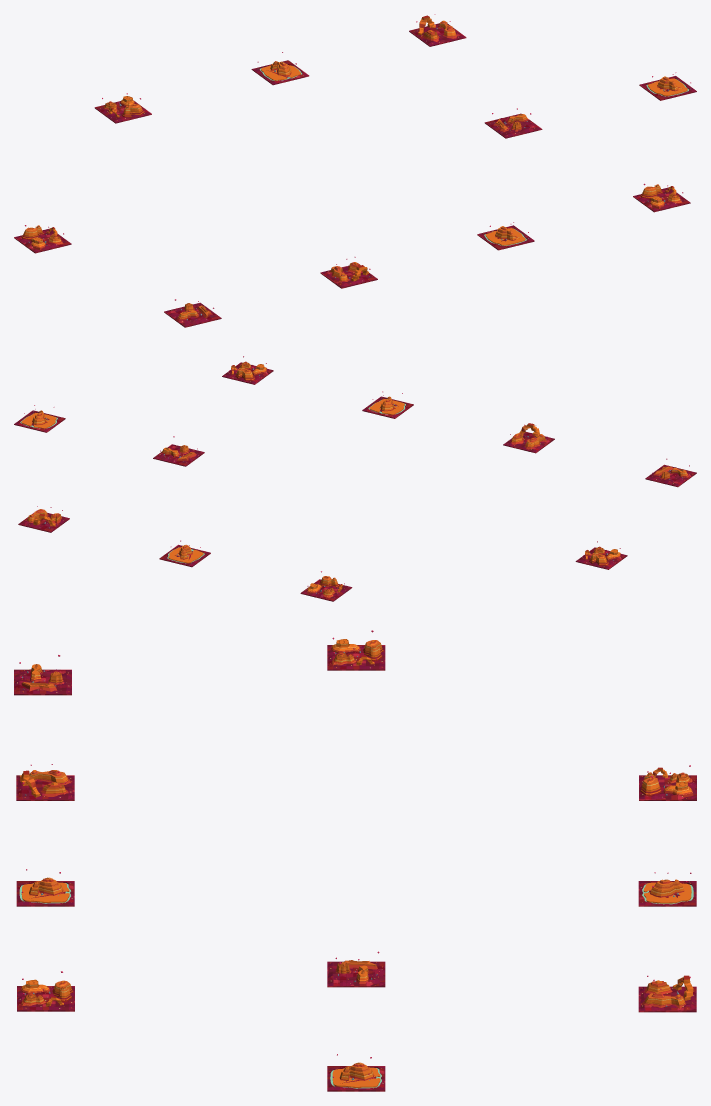
The model's file is Wildcard_Part4_D7.fbx.
3 views of the same model, one above another, from view 1: azimuth 30°, elevation 25°; view 2: azimuth 150°, elevation 25°; view 3: azimuth 270°, elevation 25° (orthographic). The views are drawn at different scales.
Parts seen in each view (by area): view 1: Cube.277, Cube.276, Cube.298, Cube.274, Cube.284, Cube.273, Cube.289, Cube.278, Cube.275, Cube.150; view 2: Cube.274, Cube.284, Cube.276, Cube.298, Cube.277, Cube.150, Cube.278, Cube.289, Cube.275, Cube.273; view 3: Cube.277, Cube.274, Cube.298, Cube.276, Cube.284, Cube.273, Cube.150, Cube.275, Cube.289, Cube.278.
Boxes of the visible parts, bbox=[...] form: Cube.277: bbox=[409, 14, 466, 46]; Cube.276: bbox=[633, 183, 690, 212]; Cube.298: bbox=[14, 225, 71, 253]; Cube.274: bbox=[320, 257, 377, 288]; Cube.284: bbox=[94, 93, 151, 123]; Cube.273: bbox=[164, 299, 221, 327]; Cube.289: bbox=[639, 72, 696, 100]; Cube.278: bbox=[251, 52, 309, 85]; Cube.275: bbox=[477, 222, 534, 250]; Cube.150: bbox=[484, 108, 542, 138]; Cube.274: bbox=[503, 423, 554, 453]; Cube.284: bbox=[300, 571, 352, 601]; Cube.276: bbox=[222, 356, 273, 384]; Cube.298: bbox=[575, 541, 627, 569]; Cube.277: bbox=[18, 506, 69, 532]; Cube.150: bbox=[153, 436, 204, 466]; Cube.278: bbox=[159, 540, 210, 567]; Cube.289: bbox=[14, 405, 65, 432]; Cube.275: bbox=[362, 391, 413, 418]; Cube.273: bbox=[645, 458, 696, 487]; Cube.277: bbox=[638, 975, 696, 1012]; Cube.274: bbox=[16, 764, 74, 800]; Cube.298: bbox=[327, 630, 385, 670]; Cube.276: bbox=[17, 971, 74, 1011]; Cube.284: bbox=[639, 765, 696, 800]; Cube.273: bbox=[14, 655, 71, 695]; Cube.150: bbox=[327, 951, 385, 987]; Cube.275: bbox=[16, 869, 74, 906]; Cube.289: bbox=[327, 1054, 385, 1091]; Cube.278: bbox=[638, 872, 696, 906].
Bounding box in the file's own units: 72490 × 1700 × 46976.
4 materials, 3 textured.
